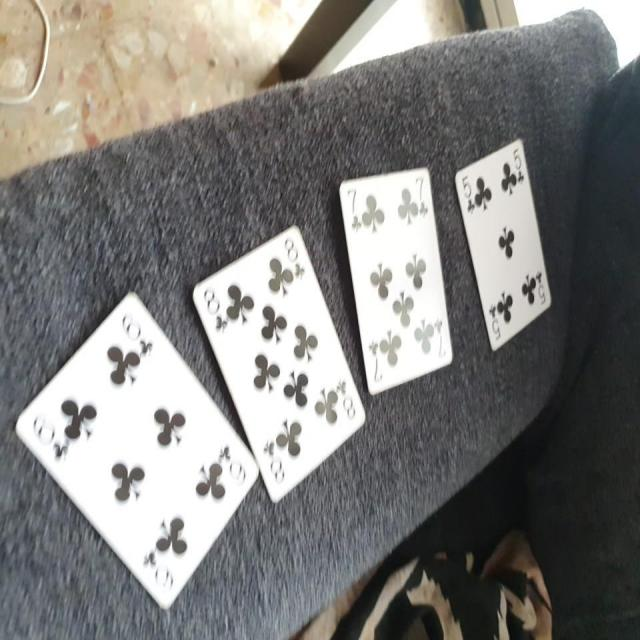5 Trefoils: (452, 135, 552, 352)
6 Trefoils: (15, 287, 258, 614)
7 Trefoils: (337, 165, 454, 396)
8 Trefoils: (189, 222, 367, 507)
